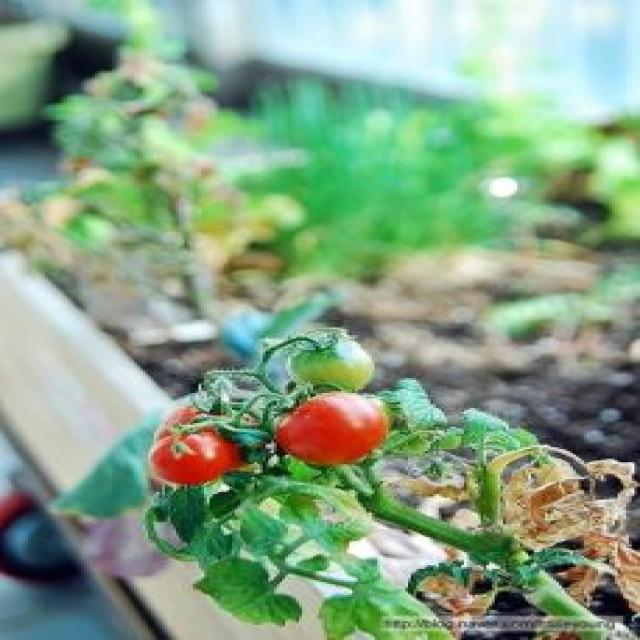level 2: (268, 333, 385, 400)
level 6: (265, 383, 400, 475), (142, 384, 260, 457), (150, 431, 249, 491)
